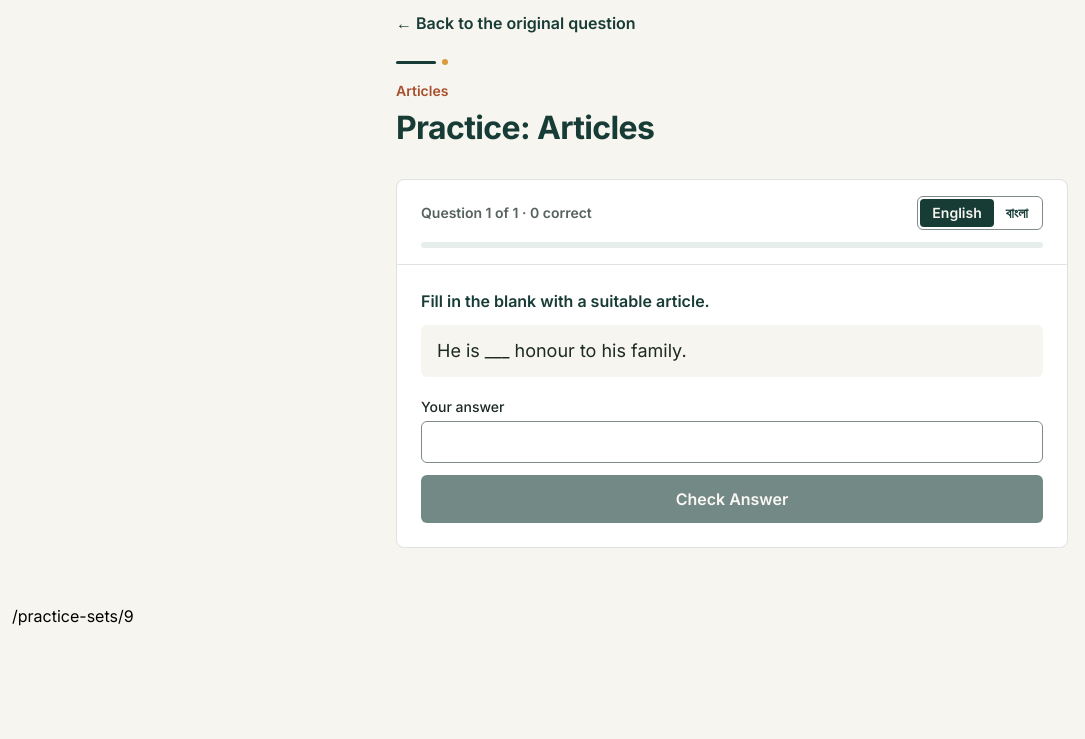
PracticeSetPage › keeps the question open when the AI cannot mark the answer
The width and height of the screenshot is (1085, 739).
In the field labelled "Your answer": (732, 442) x1=421 y1=421 x2=1043 y2=463, type "a"
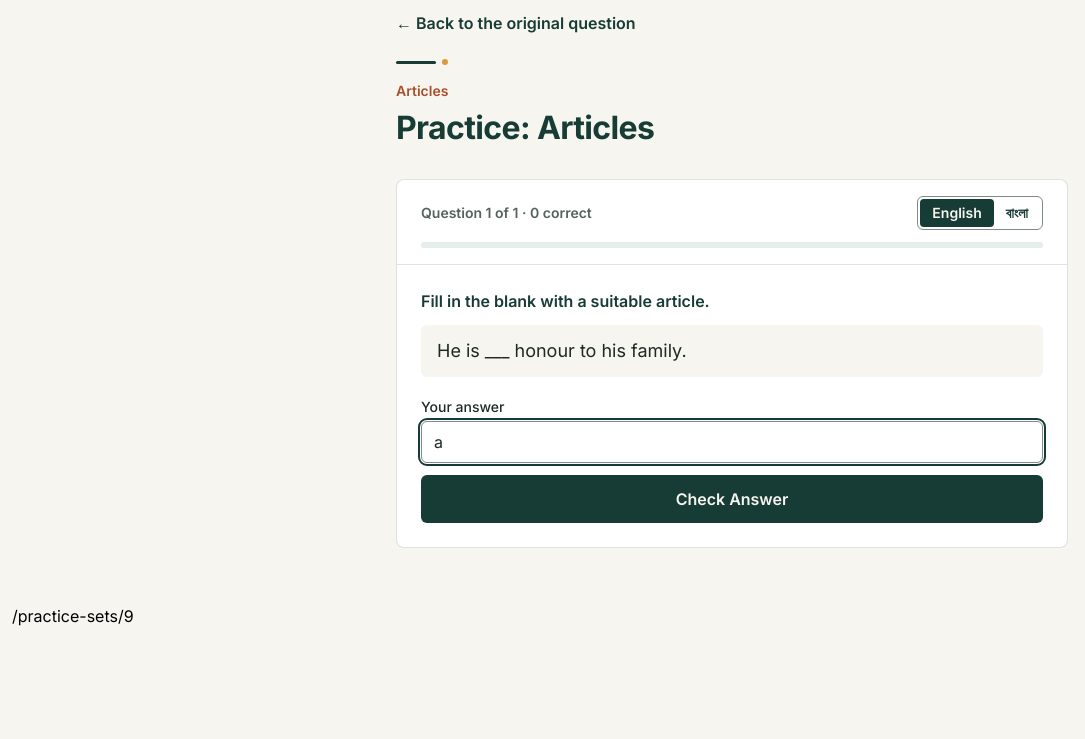
Click the button "Check Answer": (732, 499) x1=421 y1=475 x2=1043 y2=523
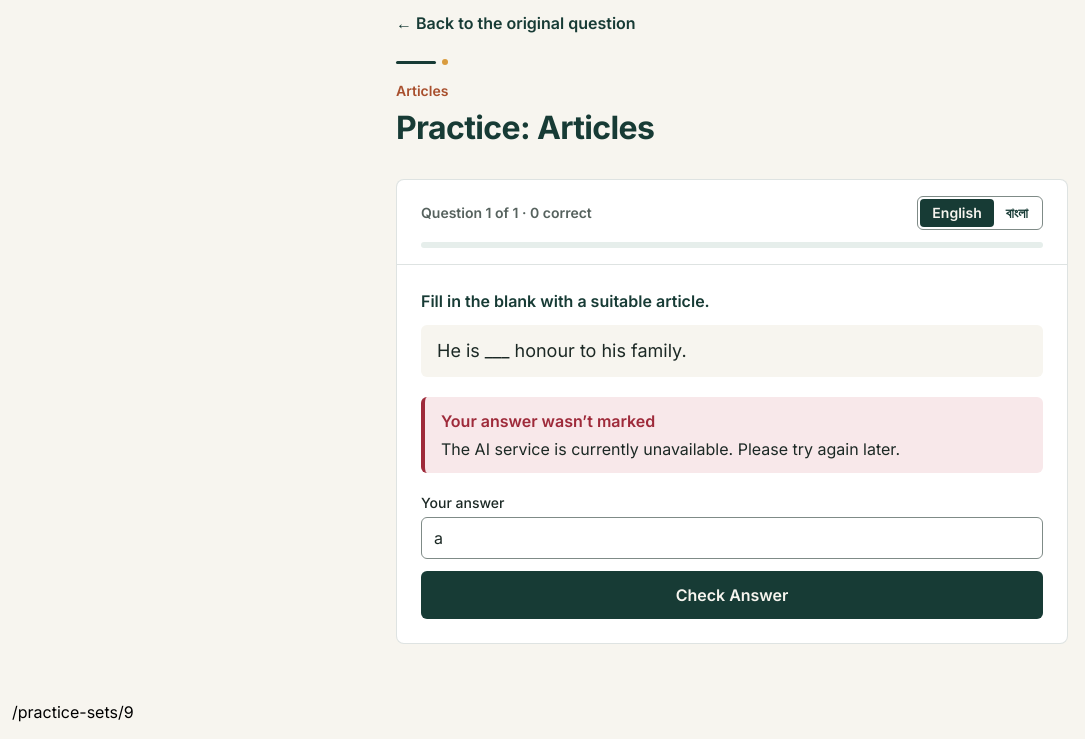
Expected: the button "Check Answer" is enabled, x1=421 y1=571 x2=1043 y2=619
Expected: the message shows "The AI service is currently unavailable. Please try again later.", x1=441 y1=439 x2=900 y2=459
